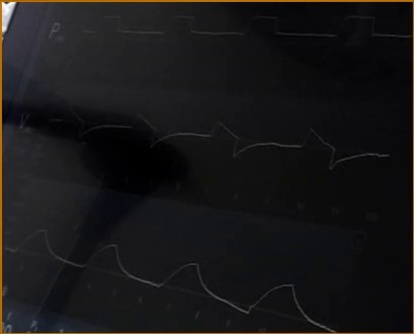Normal Flow: (51, 97, 389, 176)
Normal Volume: (6, 223, 334, 333)
